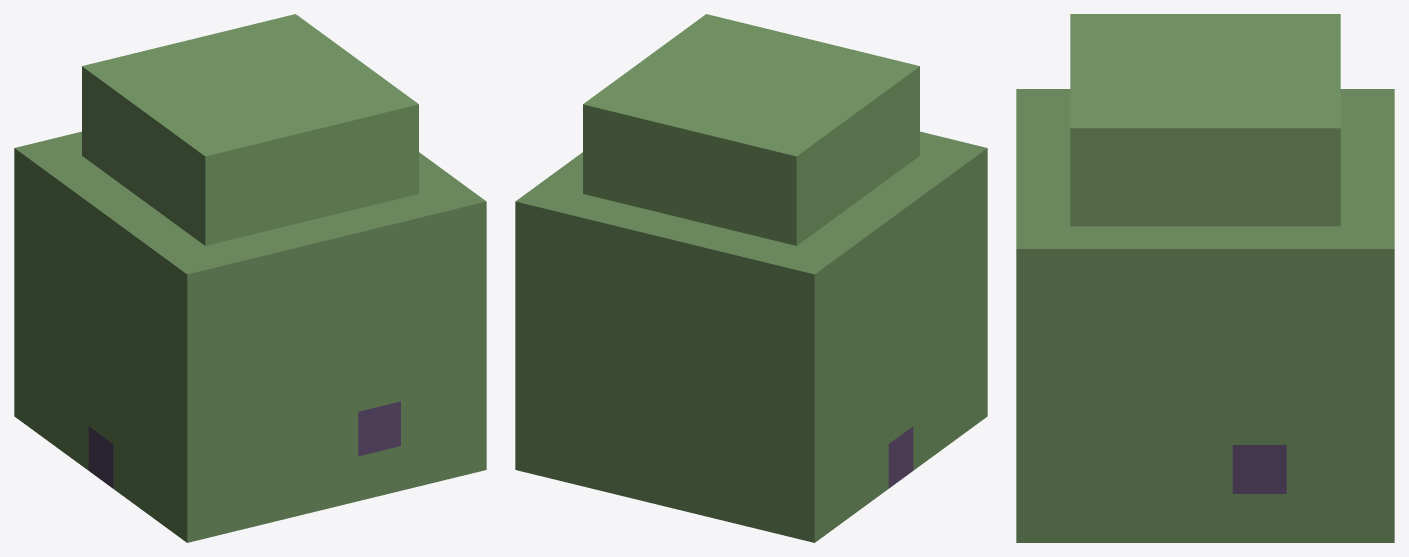
The model's file is sauco_02.glb.
The picture shows the model from 3 angles, left to right: view 1: azimuth 30°, elevation 25°; view 2: azimuth 150°, elevation 25°; view 3: azimuth 270°, elevation 25°; orthographic projection. The views are drawn at different scales.
Visible parts, largest first — view 1: sauco_02; view 2: sauco_02; view 3: sauco_02.
Part boxes in pixels (<box>): sauco_02: <box>14,14,486,542</box>; sauco_02: <box>515,14,987,542</box>; sauco_02: <box>1016,14,1394,542</box>.
Size of the model in its own units: 0.7 by 0.8 by 0.7.
